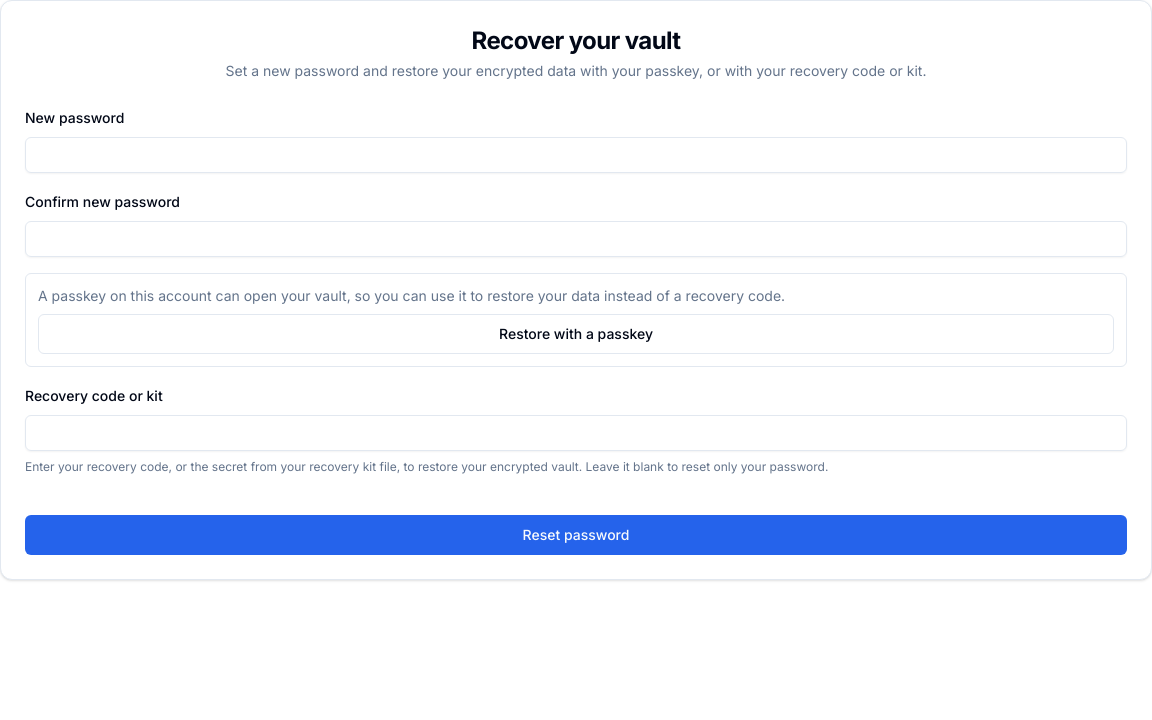
Scenario: the reset page with a passkey that opens the vault › says so when the passkeys could not be stopped after the reset
Expected: the button "Restore with a passkey" is shown, [38, 314, 1114, 354]
Type "NewPassword789!" into the password field labelled "New password".
click(576, 155); type("NewPassword789!")  # box [25, 137, 1127, 173]
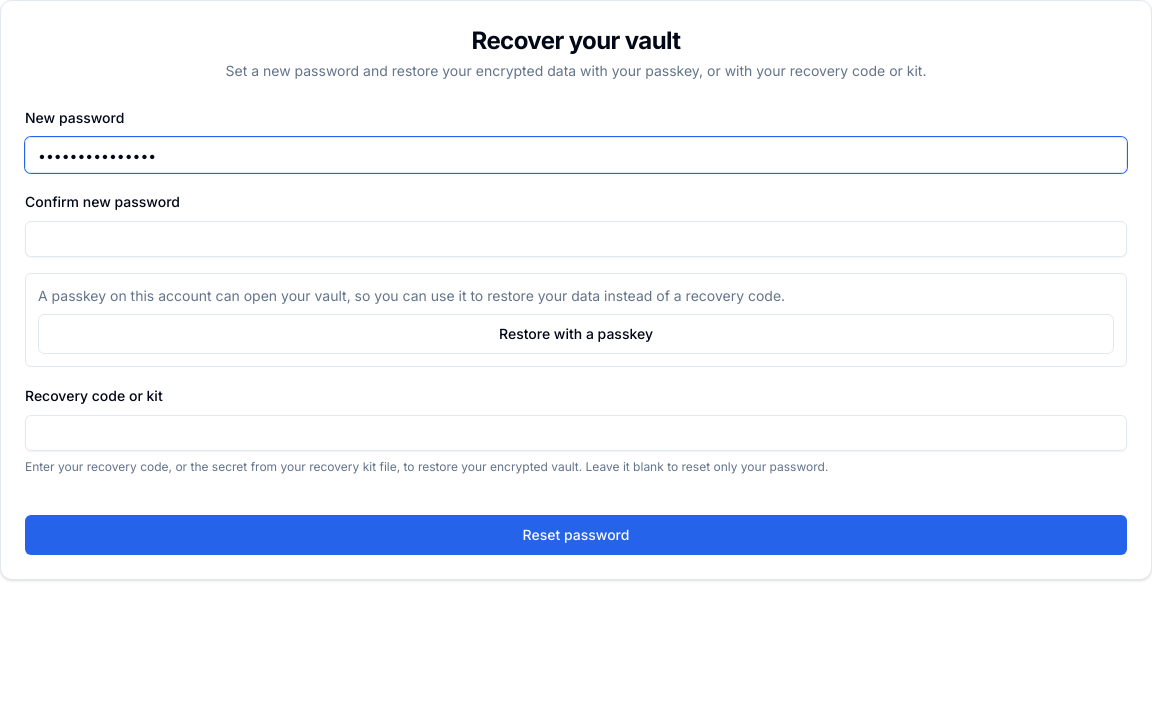
Type "NewPassword789!" into the password field labelled "Confirm new password".
click(576, 239); type("NewPassword789!")  # box [25, 221, 1127, 257]
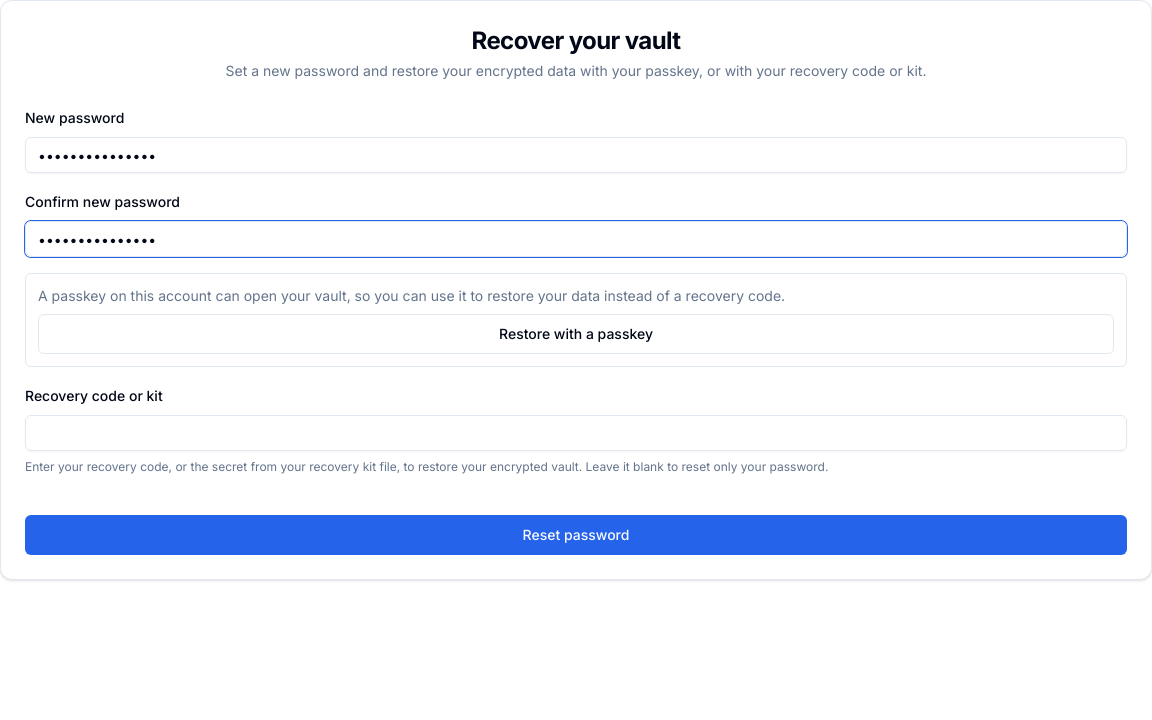
Click the button "Reset password".
click(576, 535)  # box [25, 515, 1127, 555]
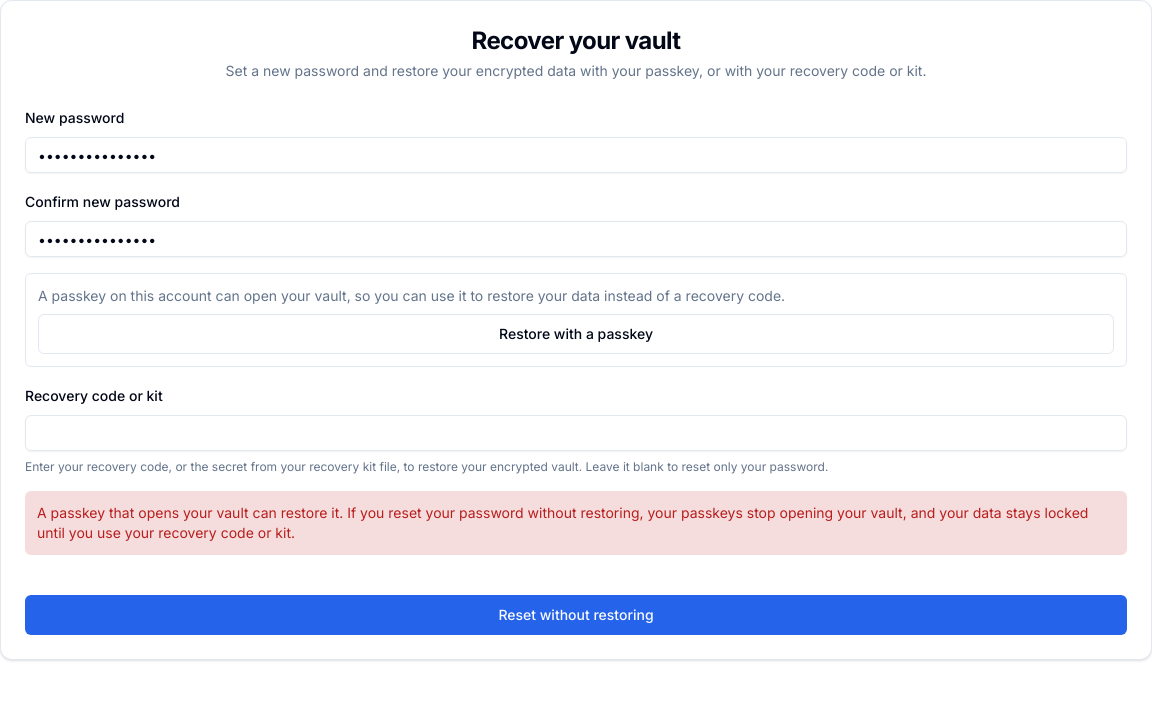
Click the button "Reset without restoring".
click(576, 615)  # box [25, 595, 1127, 635]
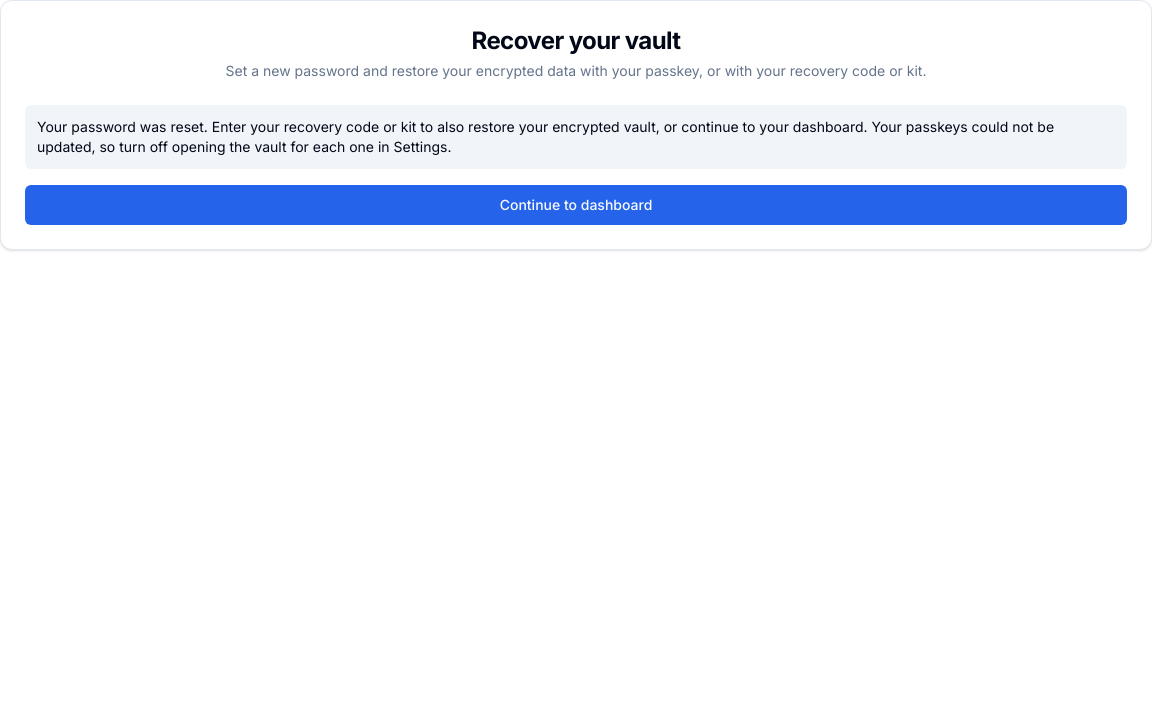
Result: the text "Your passkeys could not be updated" is shown at [37, 118, 1054, 155]
